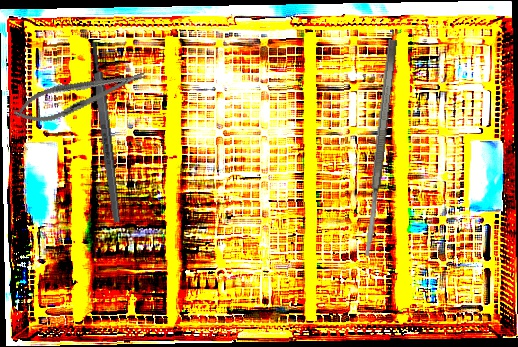Needle Holder: (10, 59, 151, 132)
Scalpel Handle: (88, 41, 123, 223)
Spatula Surgical: (360, 39, 400, 257)
